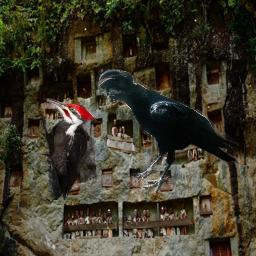Crow: (96, 69, 239, 193)
Woodpecker: (36, 98, 97, 200)
